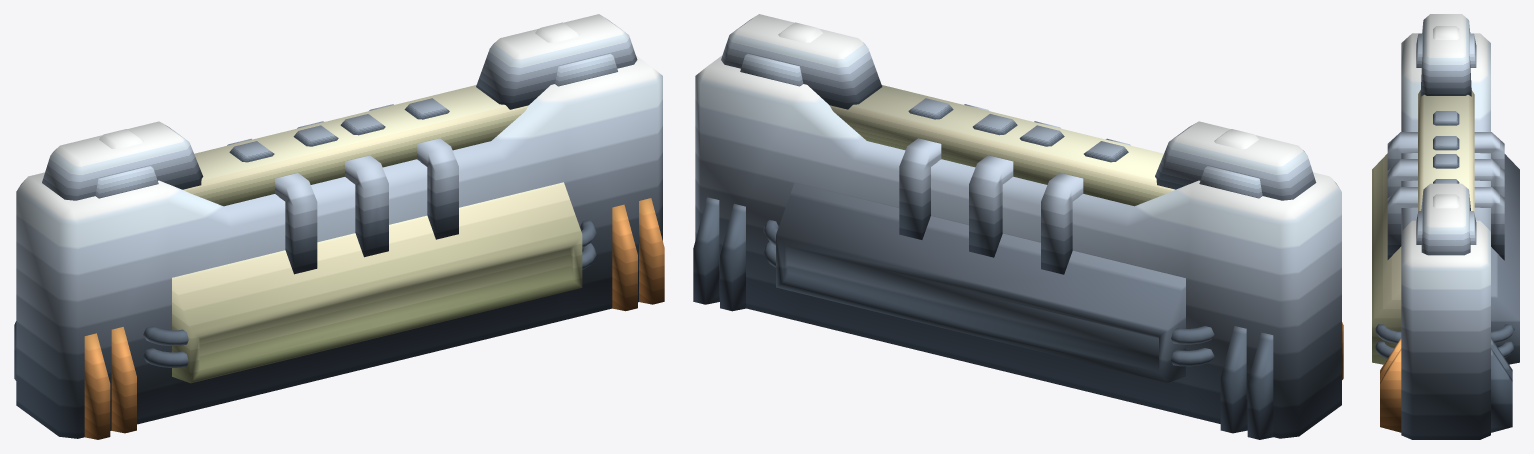
File: wall_001.fbx
The picture shows the model from 3 angles, left to right: view 1: azimuth 30°, elevation 25°; view 2: azimuth 150°, elevation 25°; view 3: azimuth 270°, elevation 25°; orthographic projection. The views are drawn at different scales.
Visible parts, largest first — view 1: wall.001; view 2: wall.001; view 3: wall.001.
Boxes of the visible parts, <box> form: wall.001: <box>14,14,664,439</box>; wall.001: <box>693,14,1343,439</box>; wall.001: <box>1372,14,1519,439</box>.
Bounding box in the file's own units: 69.2 × 29.03 × 18.58.
